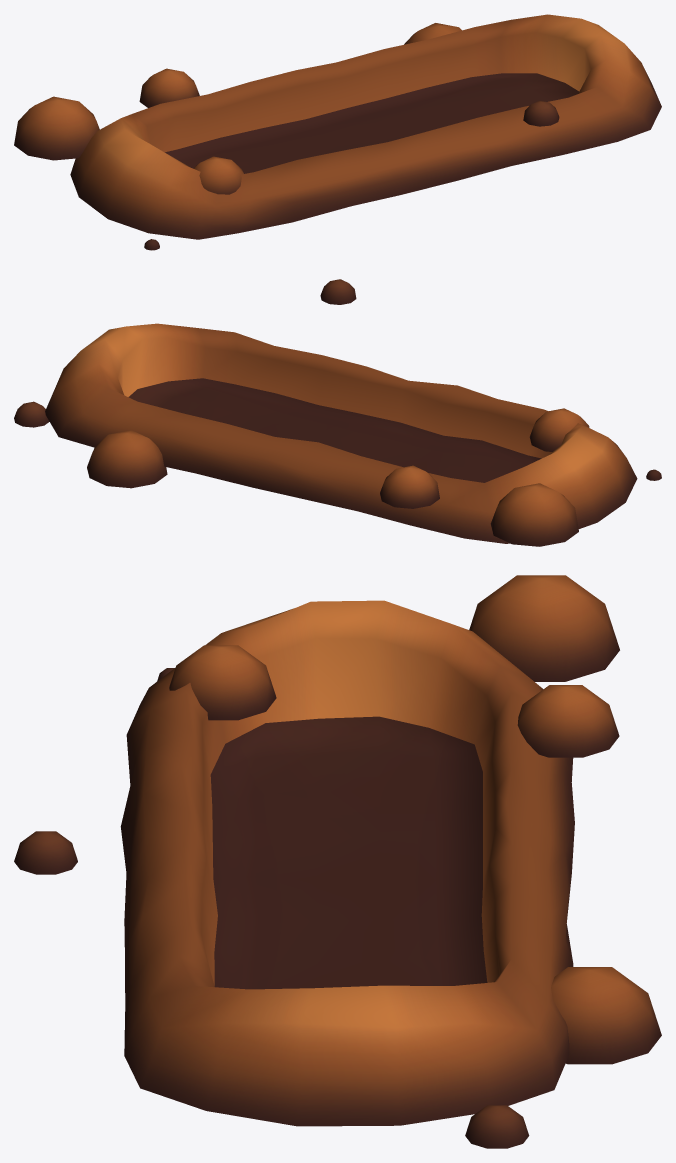
Rendered from gravedug.fbx.
The picture shows the model from 3 angles, top to bottom: view 1: azimuth 30°, elevation 25°; view 2: azimuth 150°, elevation 25°; view 3: azimuth 270°, elevation 25°; orthographic projection. The views are drawn at different scales.
Parts seen in each view (by area): view 1: Icosphere.001; view 2: Icosphere.001; view 3: Icosphere.001.
Boxes of the visible parts, left/top/right/bottom form: Icosphere.001: left=14, top=14, right=661, bottom=250; Icosphere.001: left=14, top=279, right=661, bottom=546; Icosphere.001: left=14, top=575, right=661, bottom=1148.
Size of the model in its own units: 795 by 120 by 451.
